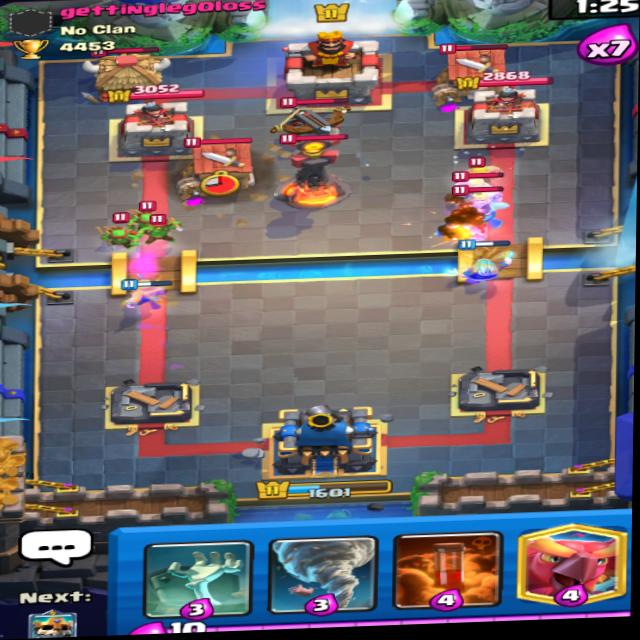barbarian: (452, 183, 508, 212), (450, 172, 510, 195), (456, 154, 505, 180)
barbarian-hut: (177, 131, 260, 192), (434, 39, 516, 99)
goblin-hut: (83, 41, 166, 99)
inferno-tower: (279, 129, 354, 206)
spear-goblin: (125, 194, 167, 226), (145, 220, 178, 251), (104, 220, 140, 247)
x-bow: (258, 87, 358, 154)
